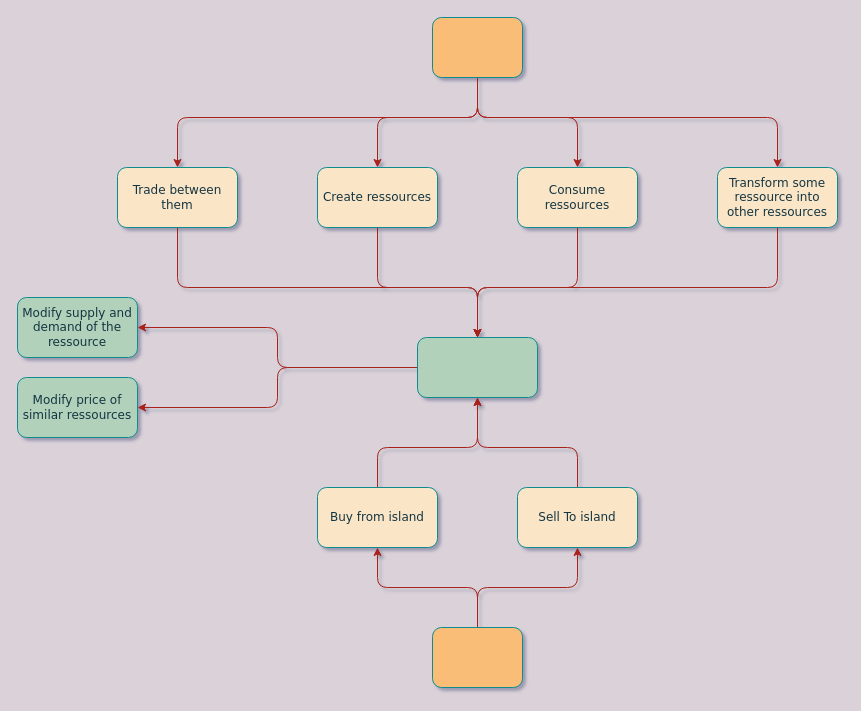
Some shapes in this 861 by 711 pixel diagram are drawn without their labels. Each missing label, with the box of its shape:
Islands: (432, 16, 522, 78)
Modify price and/or quantiy of a ressource: (416, 336, 538, 398)
Player: (432, 626, 522, 688)
